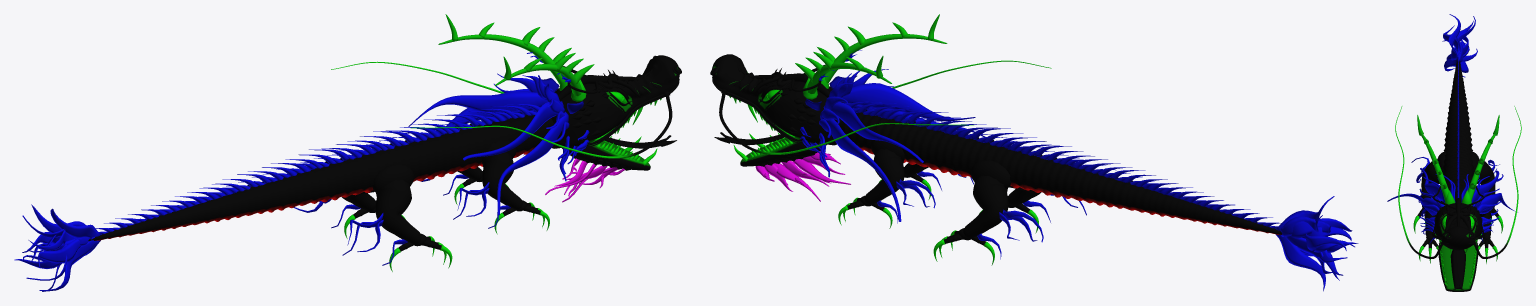
File: dragon304.glb
3 views of the same model, side by side, from view 1: azimuth 30°, elevation 25°; view 2: azimuth 150°, elevation 25°; view 3: azimuth 270°, elevation 25° (orthographic). The views are drawn at different scales.
Visible parts, largest first — view 1: d304-dragon; view 2: d304-dragon; view 3: d304-dragon.
Boxes of the visible parts, left/top/right/bottom form: d304-dragon: left=14, top=14, right=681, bottom=291; d304-dragon: left=710, top=14, right=1358, bottom=291; d304-dragon: left=1387, top=14, right=1521, bottom=291.
Size of the model in its own units: 32 by 9.41 by 8.12.
